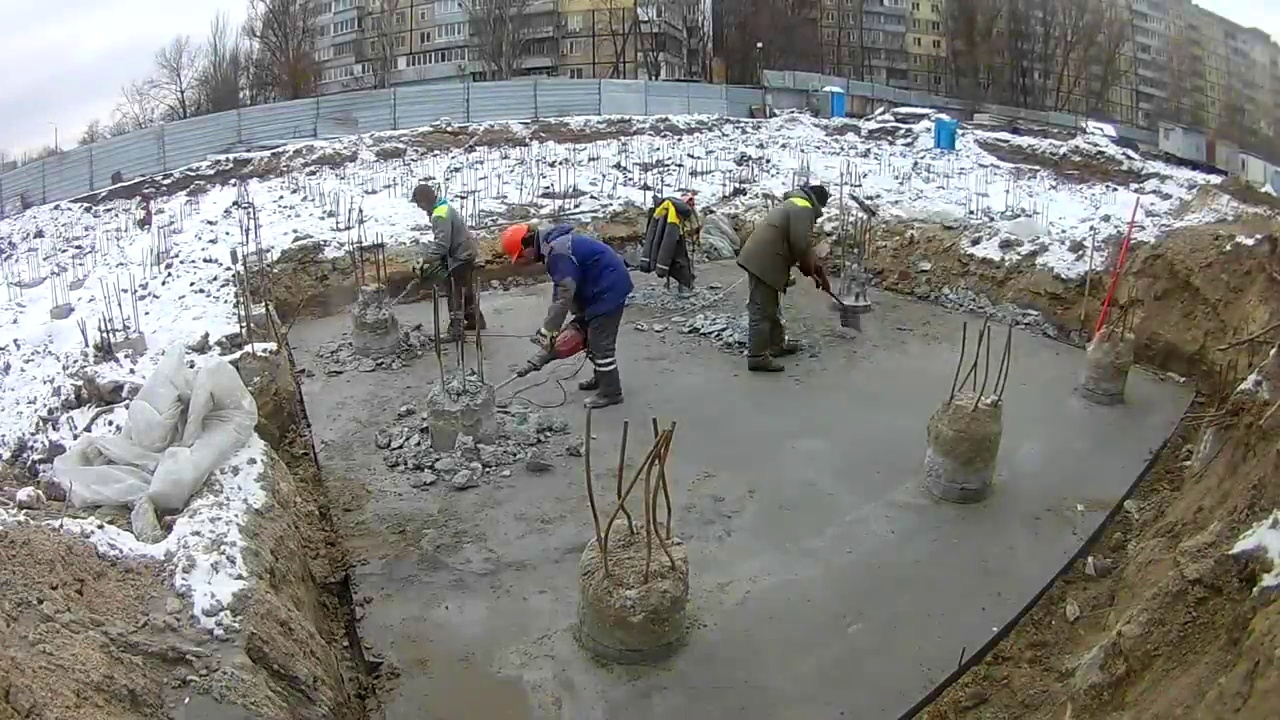helmet: (499, 221, 528, 266)
helmet-off: (800, 183, 830, 214), (413, 187, 440, 215)
helmet-on: (498, 223, 551, 267)
person: (499, 220, 635, 410), (735, 181, 832, 376), (412, 186, 486, 344)
